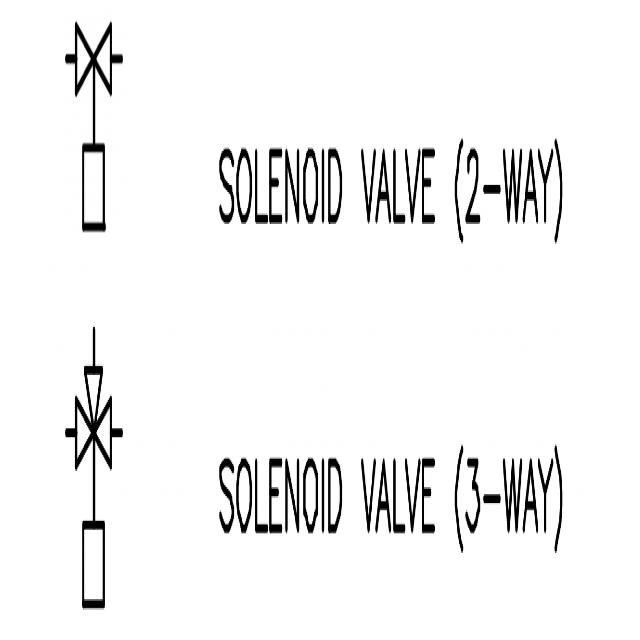2WaySolenoidValve: (63, 12, 125, 241)
3WaySolenoidValve: (63, 318, 125, 618)
